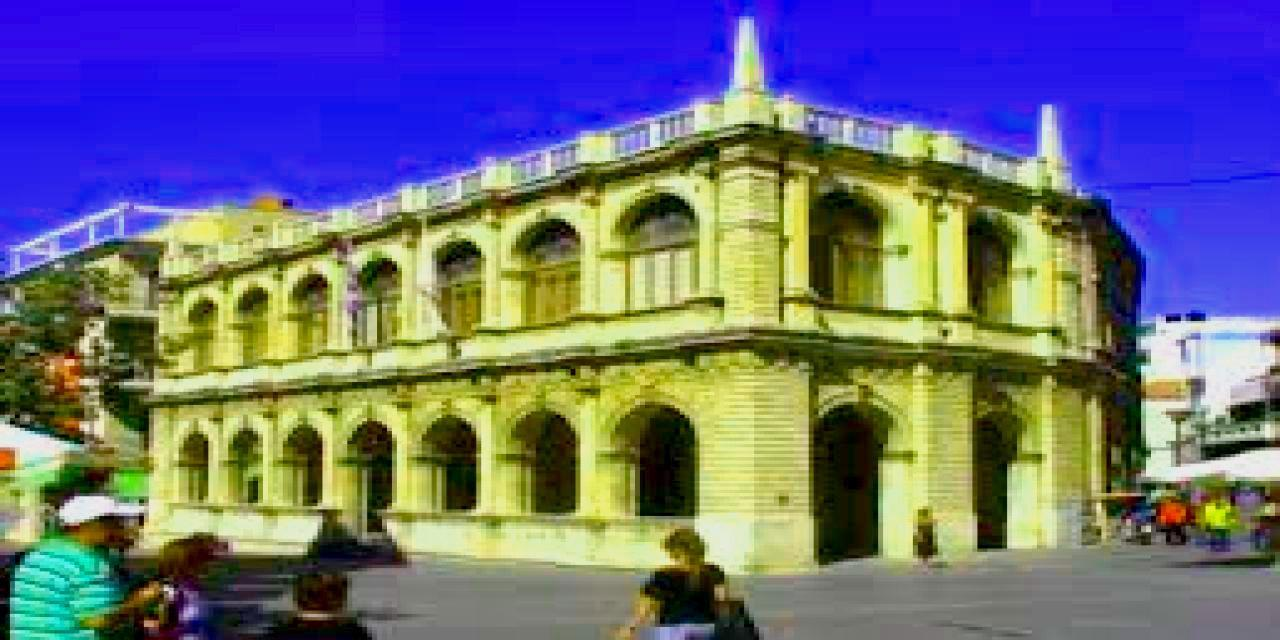Loggia: (159, 15, 1187, 575)
